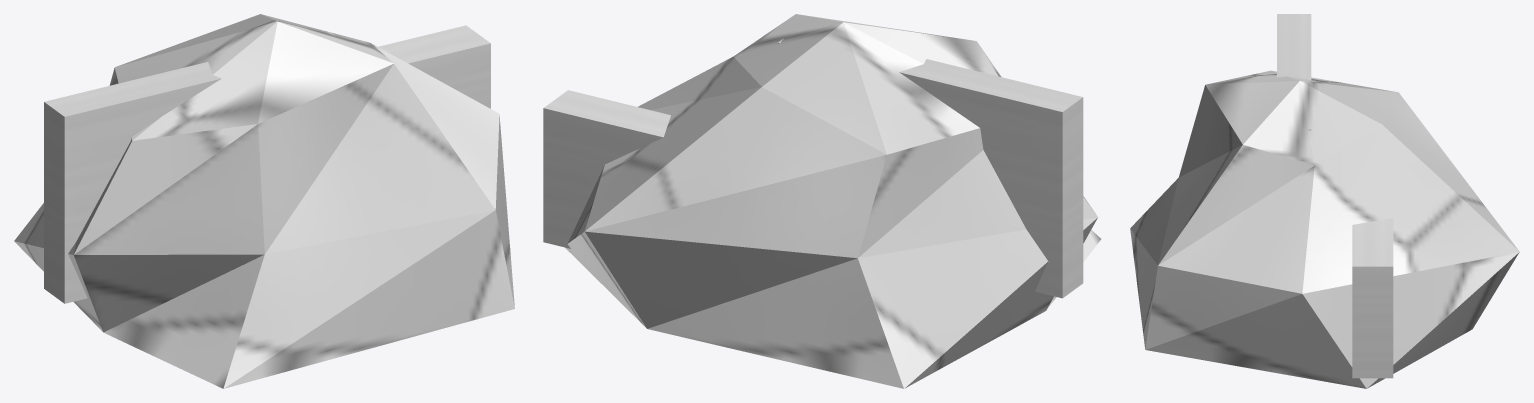
File: slag_1.obj
The picture shows the model from 3 angles, left to right: view 1: azimuth 30°, elevation 25°; view 2: azimuth 150°, elevation 25°; view 3: azimuth 270°, elevation 25°; orthographic projection. The views are drawn at different scales.
Visible parts, largest first — view 1: slag_1; view 2: slag_1; view 3: slag_1.
Boxes of the visible parts, box(x1,y1,x2,y2) form: slag_1: box(14, 14, 514, 388); slag_1: box(543, 14, 1101, 388); slag_1: box(1130, 14, 1519, 388).
Bounding box in the file's own units: 0.6642 × 0.34 × 0.5696.
